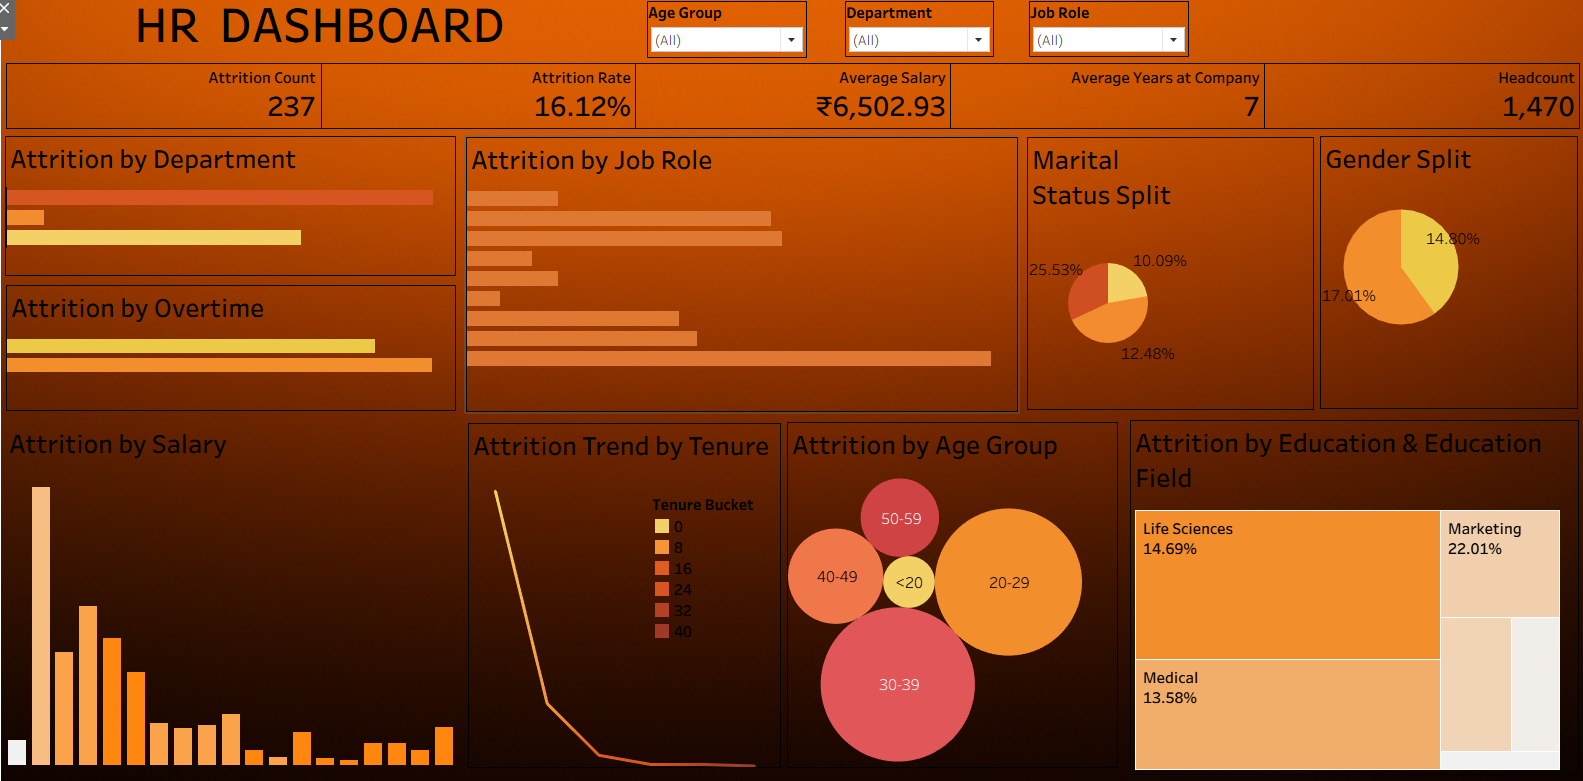

Layout of this report page (visuals, bound fields, positions):
{"tool":"tableau","page":{"name":"HR DASHBOARD","canvas":[1980,1080],"ordinal":0},"visuals":[{"type":"image","param":"C:/Users/shafn/Downloads/ChatGPT Image Aug 30, 2025, 01_33_37 AM.png","box":[8,8,1804,1064]},{"type":"legend","title":"Gender Split","param":"[federated.1y3mfh009nmiyn1gqo23c1x7ihgd].[none:Gender:nk]","box":[1812,8,160,72]},{"type":"text","box":[12,11,685,70]},{"type":"worksheet","title":"KPI","mark":"Text","box":[11,49,1579,89]},{"type":"legend","title":"Attrition by Age Group","param":"[federated.1y3mfh009nmiyn1gqo23c1x7ihgd].[none:Calculation_1725160180000727041:n","box":[1812,80,160,156]},{"type":"worksheet","title":"Marital Status Split","mark":"Pie","box":[1061,135,294,296]},{"type":"worksheet","title":"Attrition by Departments","mark":"Automatic","rows":["Department"],"cols":["Calculation_1545860619502866435"],"box":[12,137,502,131]},{"type":"worksheet","title":"Attrition by Job Role","mark":"Bar","rows":["JobRole"],"cols":["Calculation_1545860619503009796"],"box":[520,138,529,261]},{"type":"worksheet","title":"Gender Split","mark":"Pie","box":[1361,138,235,282]},{"type":"legend","title":"Attrition by Education and Education Field","param":"[federated.1y3mfh009nmiyn1gqo23c1x7ihgd].[usr:Calculation_1545860619502866435:qk","box":[1812,236,160,73]},{"type":"worksheet","title":"Overtime vs Attrition","mark":"Automatic","rows":["OverTime"],"cols":["Calculation_1545860619502866435"],"box":[12,281,501,162]},{"type":"worksheet","title":"Attrition by Education and Education Field","mark":"Automatic","box":[1141,426,449,367]},{"type":"worksheet","title":"Attrition by Age Group","mark":"Circle","box":[838,436,307,350]},{"type":"worksheet","title":"Attrition Trend by Tenures","mark":"Line","rows":["Calculation_1545860619502866435"],"cols":["Tenure (bin) 2"],"box":[505,437,318,349]},{"type":"worksheet","title":"Salary vs Attrition","mark":"Automatic","rows":["Calculation_1545860619501871105"],"cols":["Salary (bin)"],"box":[13,441,490,345]},{"type":"legend","title":"Attrition Trend by Tenures","param":"[federated.1y3mfh009nmiyn1gqo23c1x7ihgd].[none:Tenure (bin) 2:ok]","box":[663,512,140,158]}]}

Visuals, with their boxes on the page's 1980x1080 design canvas (x1, y1, x2, y2). These are canvas units, not pixel positions in the 1583x781 screenshot, which may show the page scaled, cropped or inside an application window:
image: crop(8, 8, 1812, 1072)
"Gender Split" legend: crop(1812, 8, 1972, 80)
text: crop(12, 11, 697, 81)
"KPI" worksheet (Text marks): crop(11, 49, 1590, 138)
"Attrition by Age Group" legend: crop(1812, 80, 1972, 236)
"Marital Status Split" worksheet (Pie marks): crop(1061, 135, 1355, 431)
"Attrition by Departments" worksheet: crop(12, 137, 514, 268)
"Attrition by Job Role" worksheet (Bar marks): crop(520, 138, 1049, 399)
"Gender Split" worksheet (Pie marks): crop(1361, 138, 1596, 420)
"Attrition by Education and Education Field" legend: crop(1812, 236, 1972, 309)
"Overtime vs Attrition" worksheet: crop(12, 281, 513, 443)
"Attrition by Education and Education Field" worksheet: crop(1141, 426, 1590, 793)
"Attrition by Age Group" worksheet (Circle marks): crop(838, 436, 1145, 786)
"Attrition Trend by Tenures" worksheet (Line marks): crop(505, 437, 823, 786)
"Salary vs Attrition" worksheet: crop(13, 441, 503, 786)
"Attrition Trend by Tenures" legend: crop(663, 512, 803, 670)
